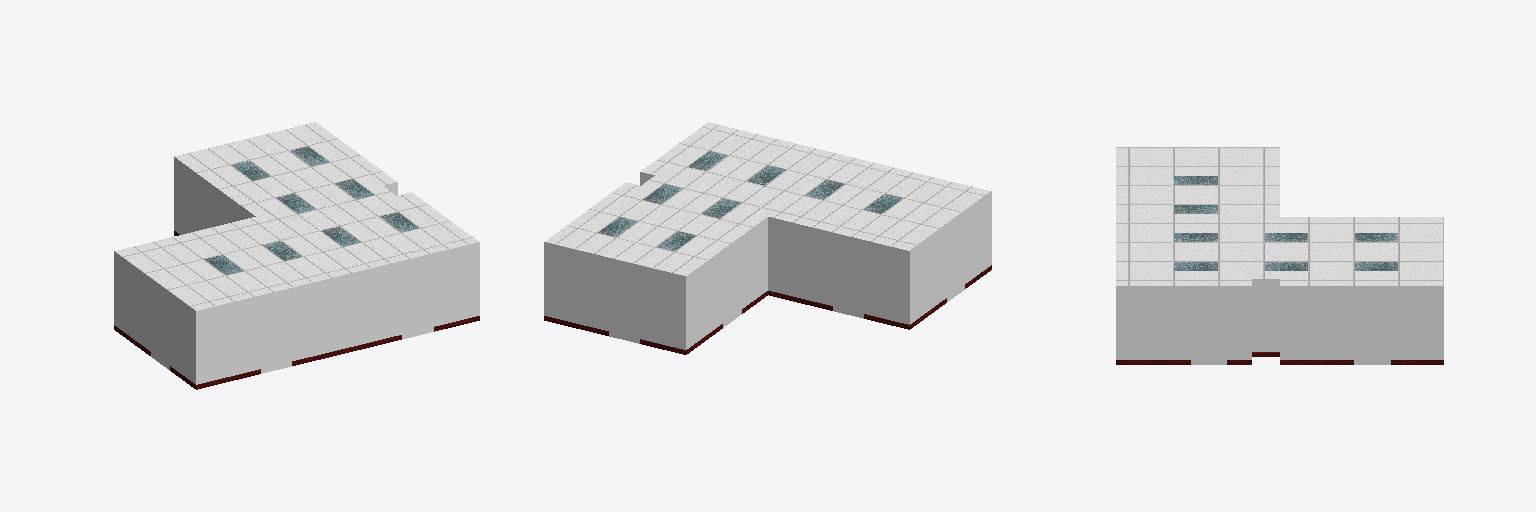
3 views of the same model, side by side, from view 1: azimuth 30°, elevation 25°; view 2: azimuth 150°, elevation 25°; view 3: azimuth 270°, elevation 25° (orthographic).
Parts seen in each view (by area): view 1: Material2_4, Material2_2, Material2_1, Material2_3; view 2: Material2_4, Material2_2, Material2_1, Material2_3; view 3: Material2_2, Material2_4, Material2_1, Material2_3.
Part boxes in pixels (x1,y1,x2,y2): Material2_4: (114,157,479,384); Material2_2: (115,122,478,310); Material2_1: (204,146,418,274); Material2_3: (114,231,479,389); Material2_4: (544,172,991,349); Material2_2: (545,122,990,275); Material2_1: (598,151,902,250); Material2_3: (544,265,991,354); Material2_2: (1116,147,1443,285); Material2_4: (1116,279,1443,364); Material2_1: (1174,176,1397,270); Material2_3: (1116,352,1443,364).
Bounding box in the file's own units: 360 × 95.44 × 360.
5 materials, 4 textured.